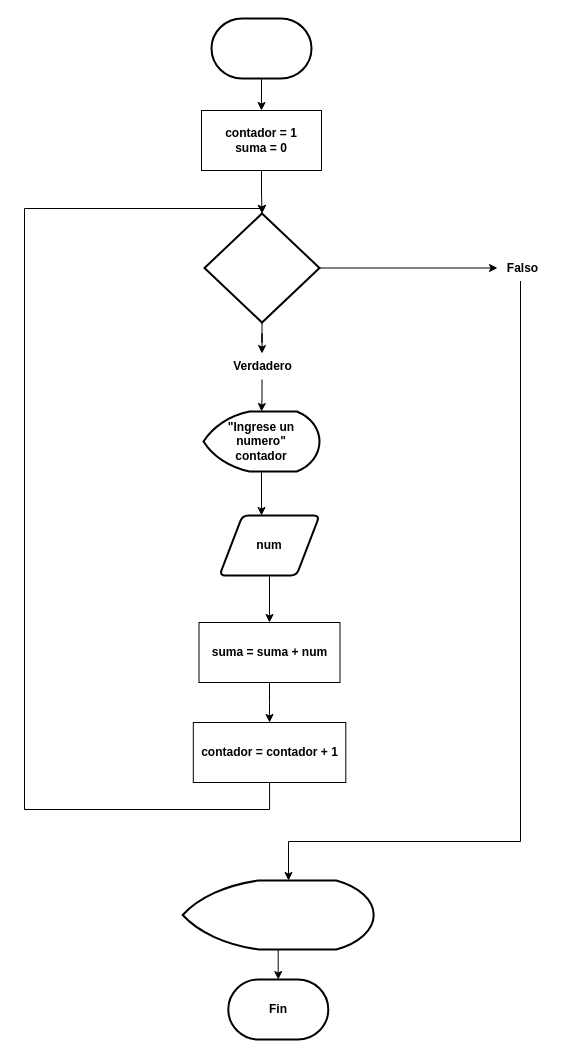
Some shapes in this 565 by 1057 pixel diagram are drawn without their labels. The box of each missing label's shape, as (x1, y1, x2, y2) in pixels:
"La suma total de los 100 numeros ingresados es " suma: (181, 879, 374, 950)
contador <= 100: (203, 212, 320, 323)
Inicio: (210, 17, 312, 79)
